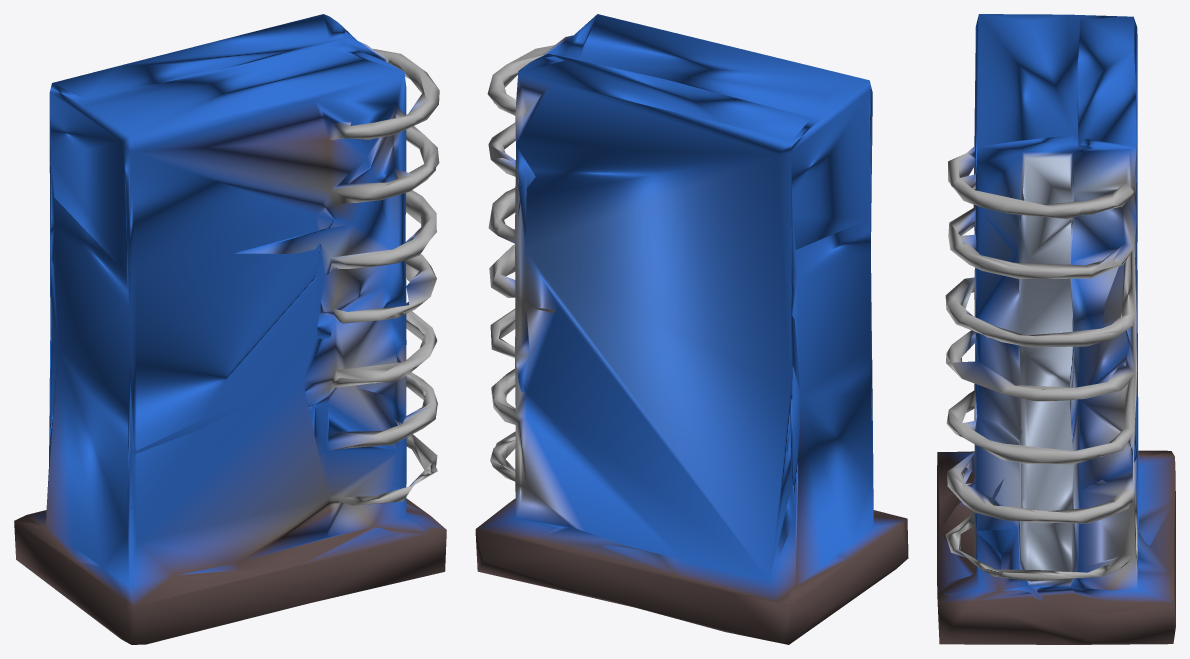
The model's file is gen3d-notebook-lod1.glb.
3 renders of one model, left to right at view 1: azimuth 30°, elevation 25°; view 2: azimuth 150°, elevation 25°; view 3: azimuth 270°, elevation 25°, orthographic.
Parts seen in each view (by area): view 1: part_0; view 2: part_0; view 3: part_0.
Boxes of the visible parts, x1,y1,x2,y2 form: part_0: (14,14,446,644); part_0: (475,14,908,644); part_0: (937,14,1175,644).
Bounding box in the file's own units: 0.7423 × 0.9982 × 0.4429.
